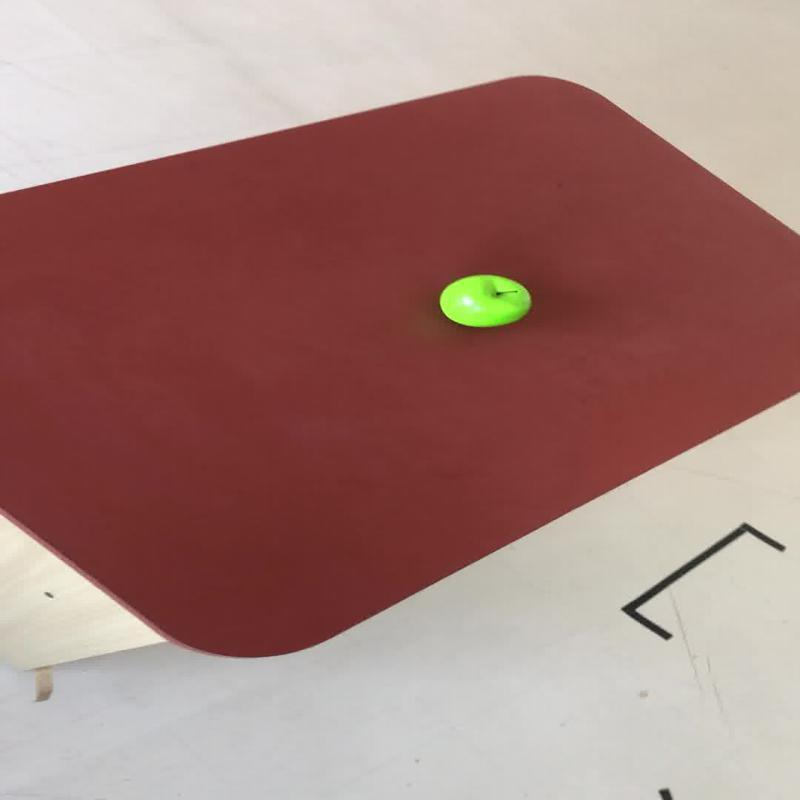apple: (437, 274, 532, 328)
